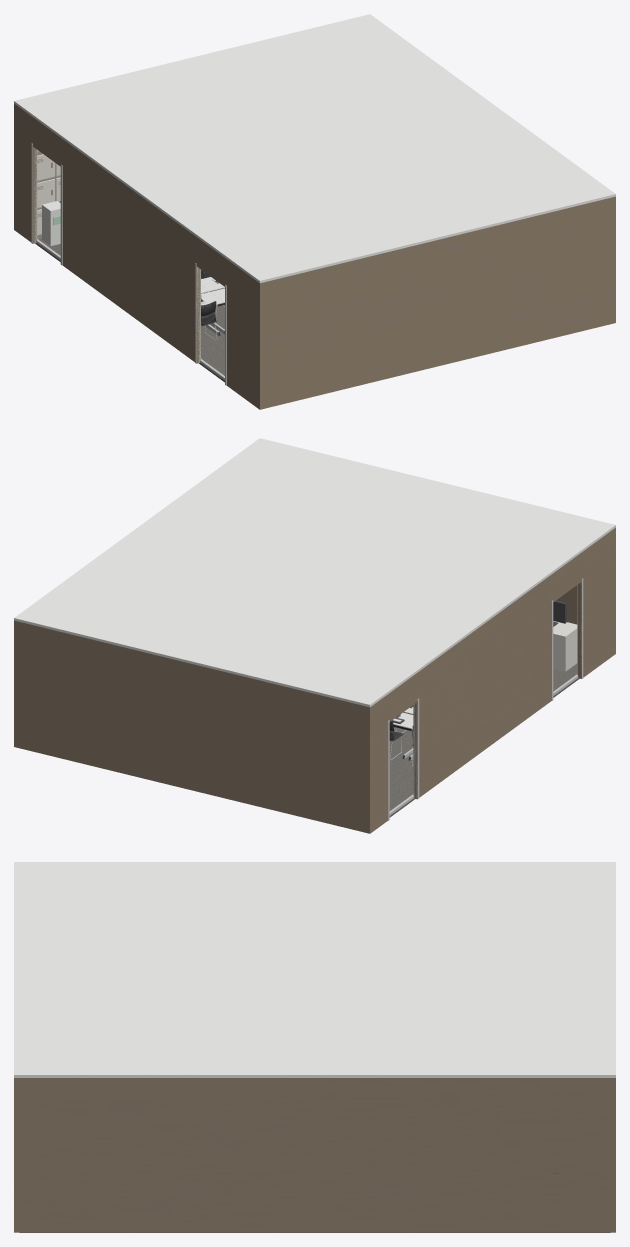
Rendered from room.glb.
The picture shows the model from 3 angles, top to bottom: view 1: azimuth 30°, elevation 25°; view 2: azimuth 150°, elevation 25°; view 3: azimuth 270°, elevation 25°; orthographic projection. The views are drawn at different scales.
Parts seen in each view (by area): view 1: 天井, 壁_手前, 壁_左_1, 壁_左_0, 壁_左_2, 床, LOCKER_奥, 壁_左_入口上, 壁_左_出口上, BIN_分別; view 2: 天井, 壁_奥, 壁_左_1, 壁_左_0, 床, 壁_左_2, MON_左_台, 壁_左_入口上, 壁_左_出口上, 壁_手前, 枠_出口_a; view 3: 天井, 壁_右, 壁_奥, 壁_手前, 床.
Part boxes in pixels (x1=…): 天井: x1=14, y1=14, x2=615, y2=283; 壁_手前: x1=257, y1=196, x2=615, y2=409; 壁_左_1: x1=61, y1=138, x2=200, y2=363; 壁_左_0: x1=225, y1=258, x2=257, y2=407; 壁_左_2: x1=16, y1=105, x2=36, y2=243; 床: x1=35, y1=238, x2=224, y2=382; LOCKER_奥: x1=37, y1=150, x2=60, y2=239; 壁_左_入口上: x1=196, y1=237, x2=225, y2=286; 壁_左_出口上: x1=33, y1=117, x2=61, y2=166; BIN_分別: x1=42, y1=200, x2=60, y2=245; 天井: x1=14, y1=438, x2=615, y2=707; 壁_奥: x1=14, y1=620, x2=372, y2=833; 壁_左_1: x1=413, y1=574, x2=552, y2=798; 壁_左_0: x1=578, y1=529, x2=613, y2=678; 床: x1=389, y1=663, x2=579, y2=817; 壁_左_2: x1=372, y1=693, x2=389, y2=831; MON_左_台: x1=553, y1=621, x2=577, y2=671; 壁_左_入口上: x1=553, y1=553, x2=581, y2=601; 壁_左_出口上: x1=389, y1=673, x2=417, y2=721; 壁_手前: x1=556, y1=527, x2=615, y2=654; 枠_出口_a: x1=413, y1=698, x2=419, y2=799; 天井: x1=14, y1=862, x2=615, y2=1077; 壁_右: x1=19, y1=1078, x2=610, y2=1232; 壁_奥: x1=610, y1=1078, x2=615, y2=1232; 壁_手前: x1=14, y1=1078, x2=19, y2=1232; 床: x1=19, y1=1232, x2=610, y2=1232.
Bounding box in the file's own units: 7.67 × 2.69 × 9.16.
50 materials, 2 textured.
